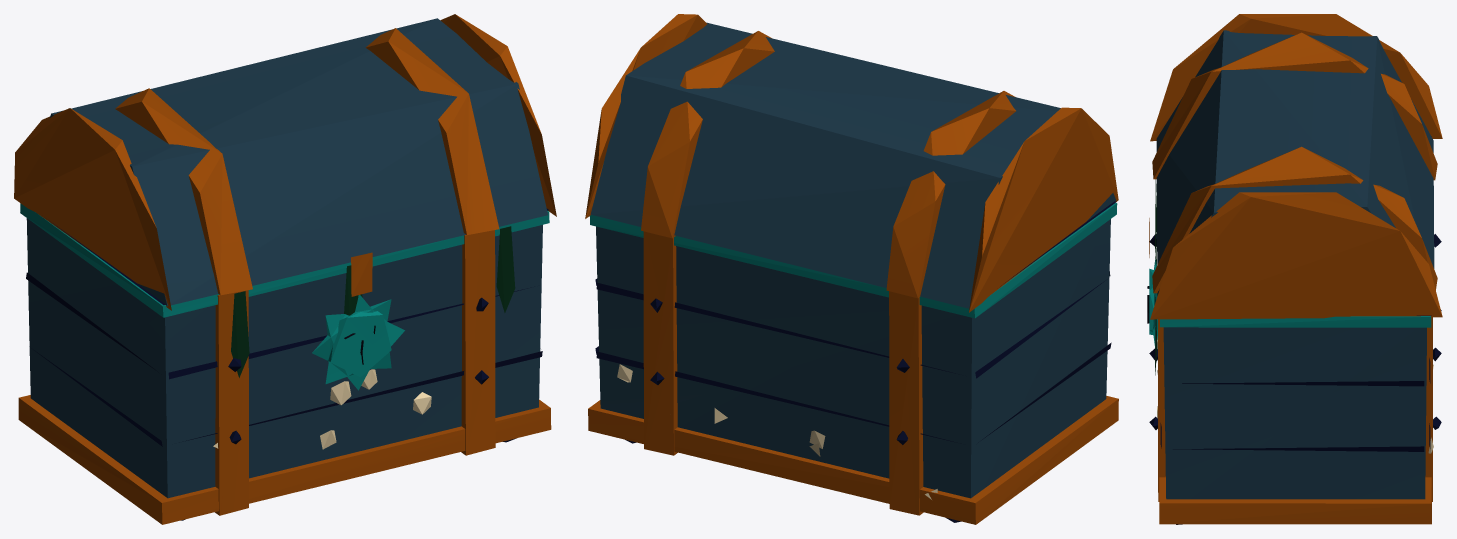
Rendered from tb_chest_sea.three-web-toon.lod25.glb.
3 views of the same model, side by side, from view 1: azimuth 30°, elevation 25°; view 2: azimuth 150°, elevation 25°; view 3: azimuth 270°, elevation 25° (orthographic). The views are drawn at different scales.
Visible parts, largest first — view 1: chest_body_lod, chest_lid_lod; view 2: chest_body_lod, chest_lid_lod; view 3: chest_lid_lod, chest_body_lod.
Part boxes in pixels (x1,y1,x2,y2): chest_body_lod: [18, 203, 551, 524]; chest_lid_lod: [14, 14, 556, 310]; chest_body_lod: [588, 203, 1118, 524]; chest_lid_lod: [585, 14, 1118, 312]; chest_lid_lod: [1149, 14, 1442, 319]; chest_body_lod: [1147, 179, 1441, 524].
Size of the model in its own units: 1.6 by 1.42 by 1.08.
